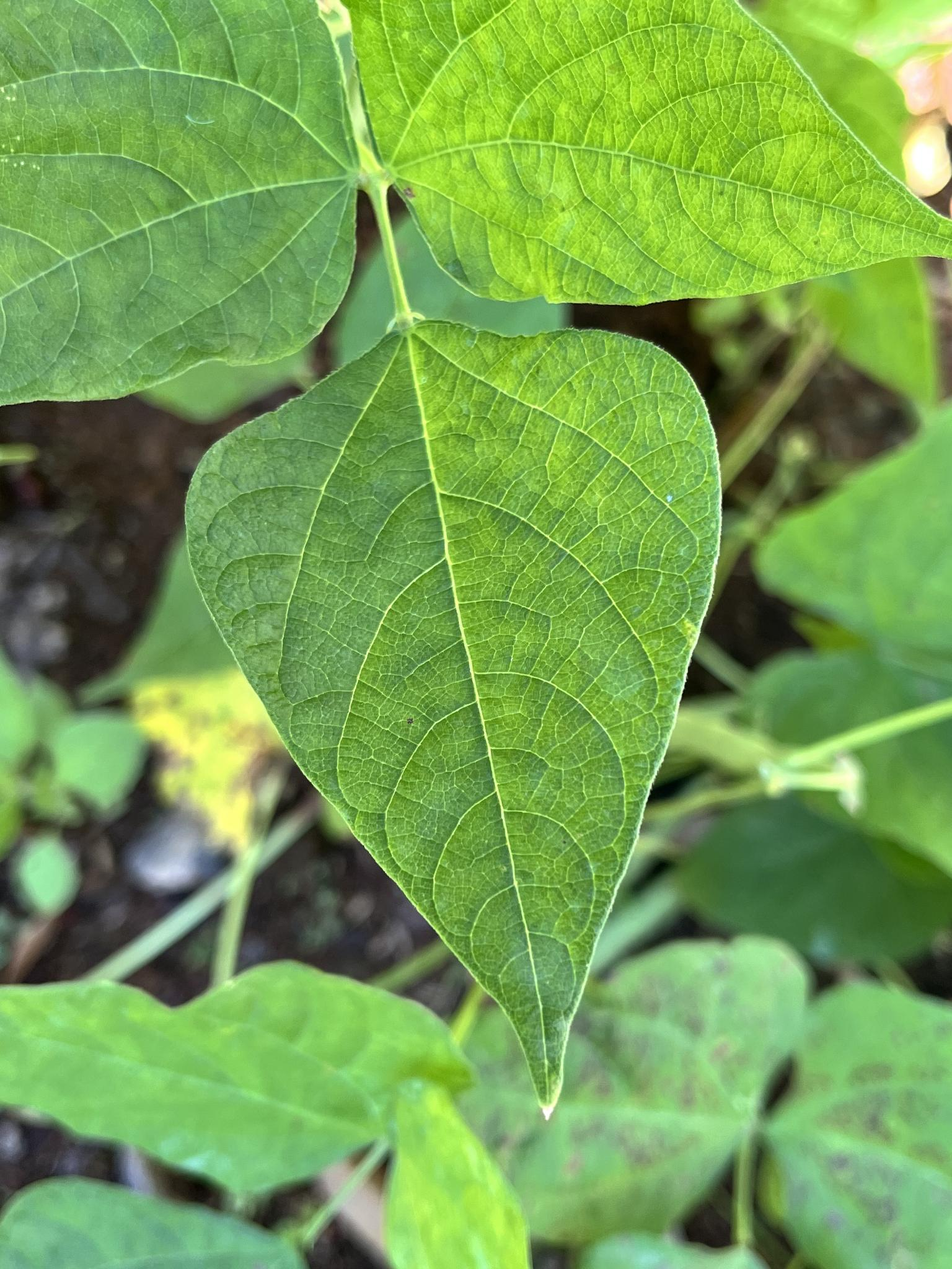sehat: (184, 314, 723, 1116)
